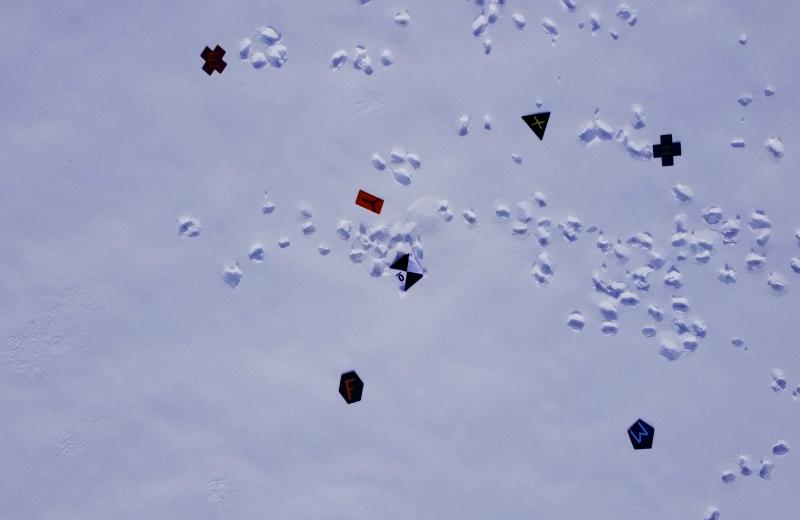Cross: (650, 130, 685, 171), (198, 41, 231, 83)
Hexagon: (336, 368, 365, 411)
Pentagon: (624, 415, 658, 456)
Rectangle: (350, 187, 386, 215)
Triangle: (521, 111, 553, 149)
